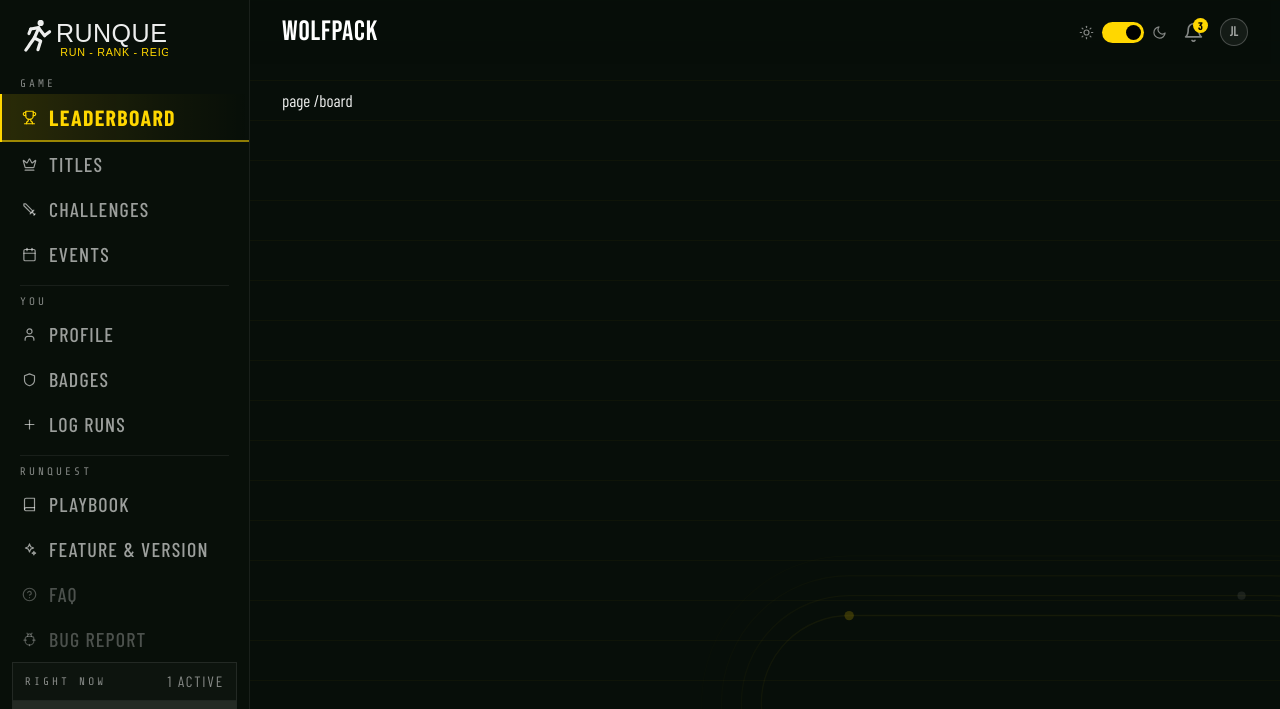
popovern › en rad av ett avstängt slag renderas aldrig vid första öppningen när inställningarna svarat före
Click the button "3". click: click(1194, 32)
box: [1183,22,1204,42]
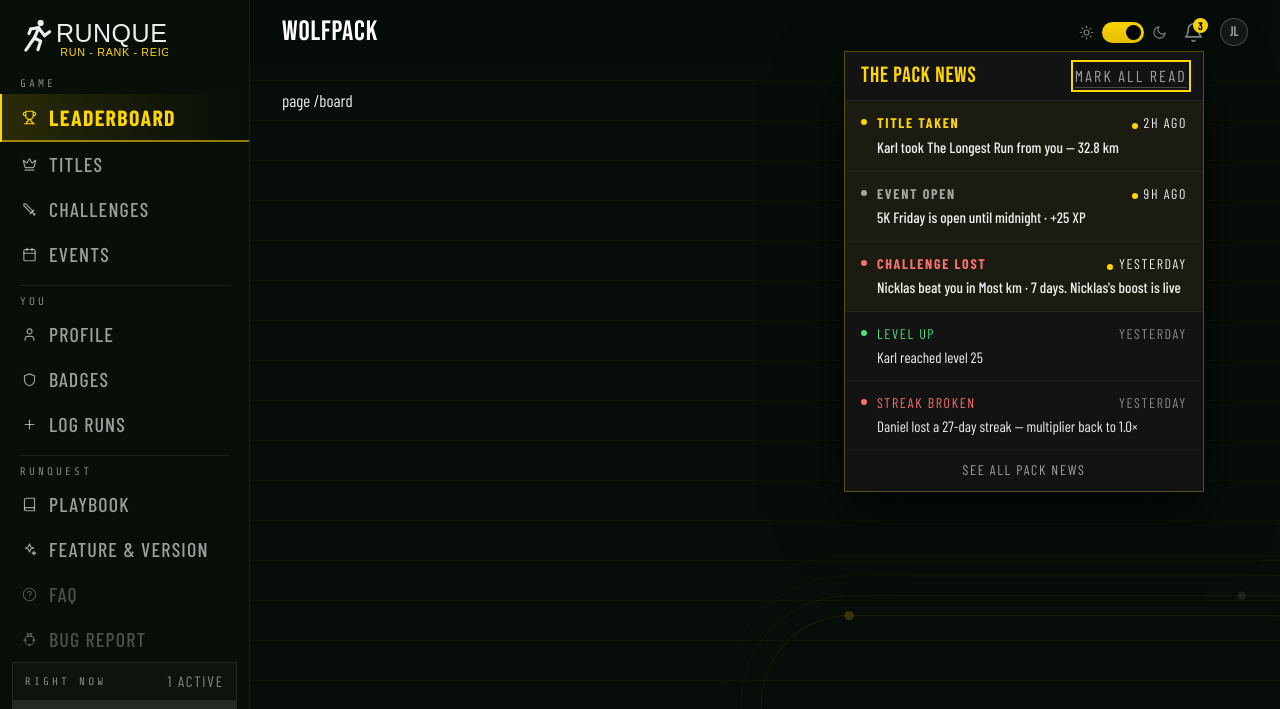
Expected: the list item that starts with "Title taken" is shown, [845,101,1203,172]
